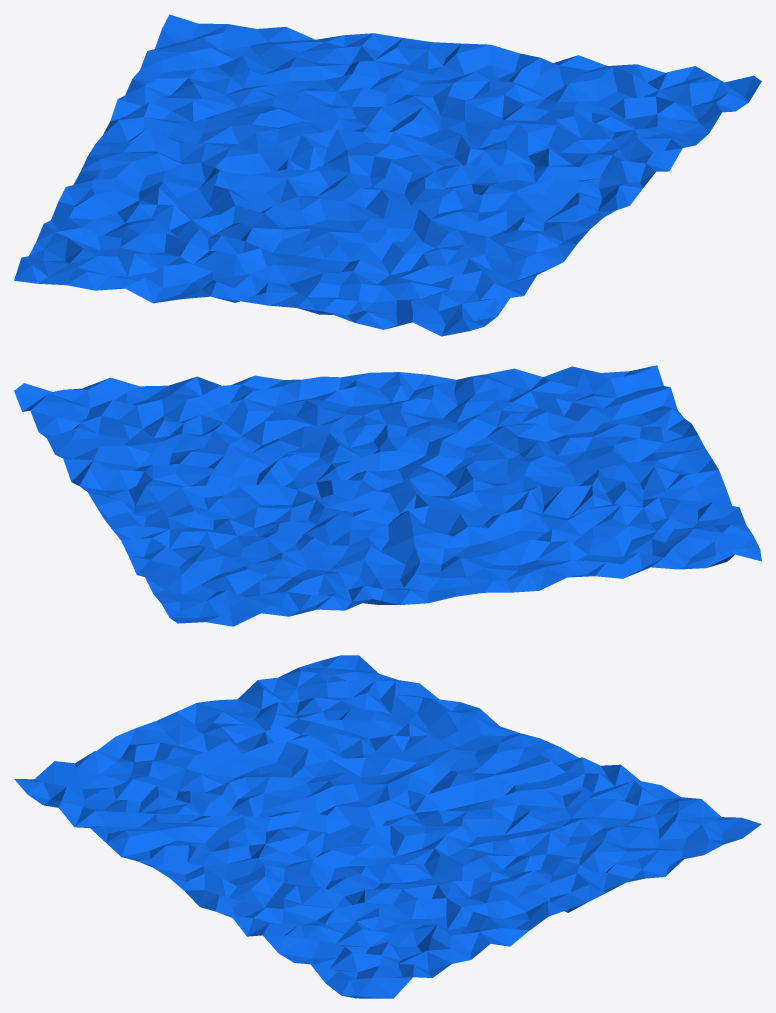
The model's file is water.FBX.
The picture shows the model from 3 angles, top to bottom: view 1: azimuth 30°, elevation 25°; view 2: azimuth 150°, elevation 25°; view 3: azimuth 270°, elevation 25°; orthographic projection. The views are drawn at different scales.
Parts seen in each view (by area): view 1: Line001; view 2: Line001; view 3: Line001.
Part boxes in pixels (left/top/right/bottom): Line001: left=14, top=14, right=761, bottom=336; Line001: left=14, top=365, right=761, bottom=626; Line001: left=14, top=655, right=761, bottom=998.
Bounding box in the file's own units: 424 × 7.87 × 386.
